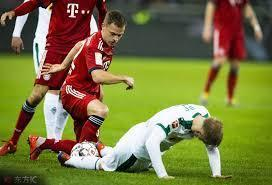Fall-Detected: (28, 102, 237, 175)
